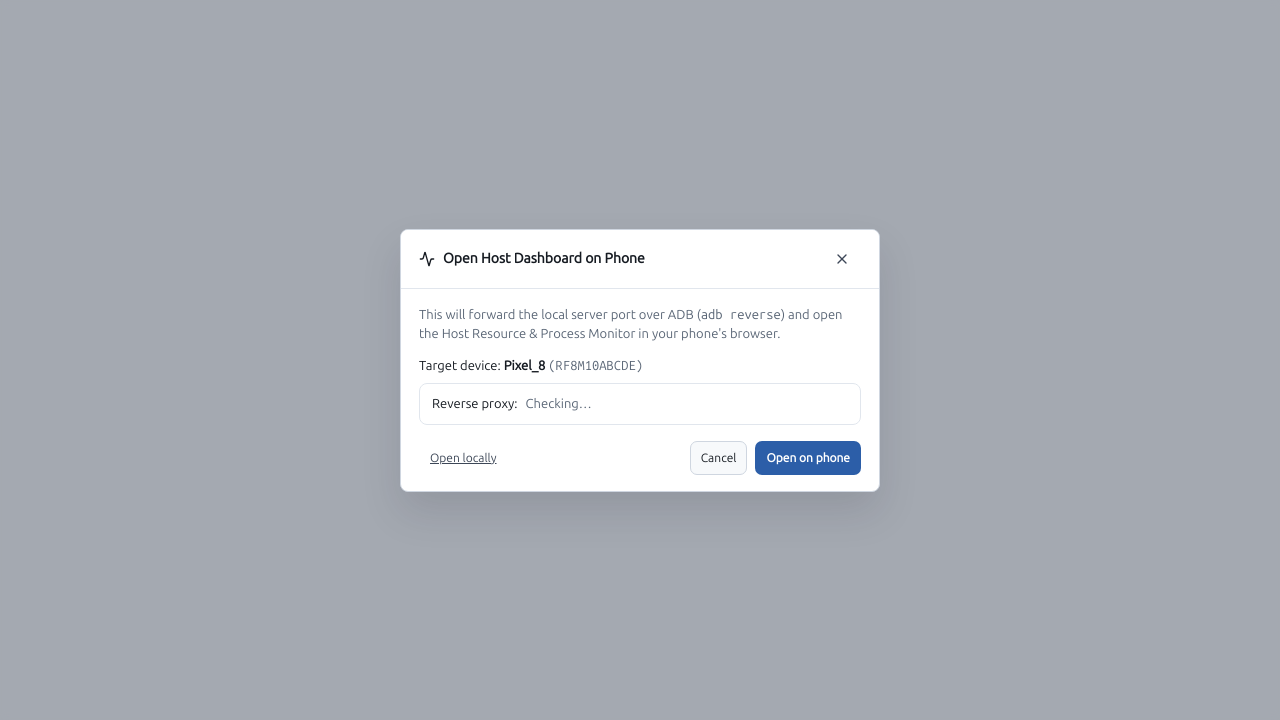
Test case: HostPhoneModal › asks for confirmation and launches the host dashboard on the selected device
Click the button "Open on phone". click: coordinates (808, 458)
box: 756,440 -> 861,474
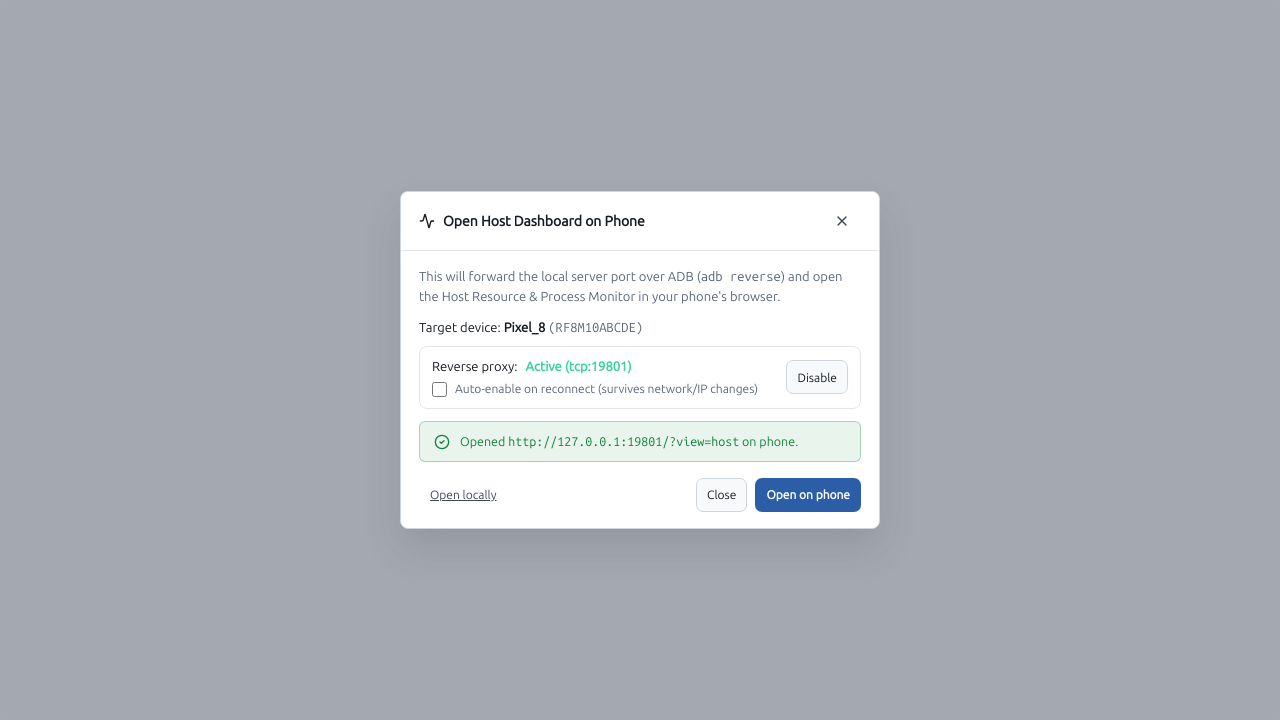
Expected: the text "http://127.0.0.1:19801/?view=host" is shown, 508,434 -> 739,448
